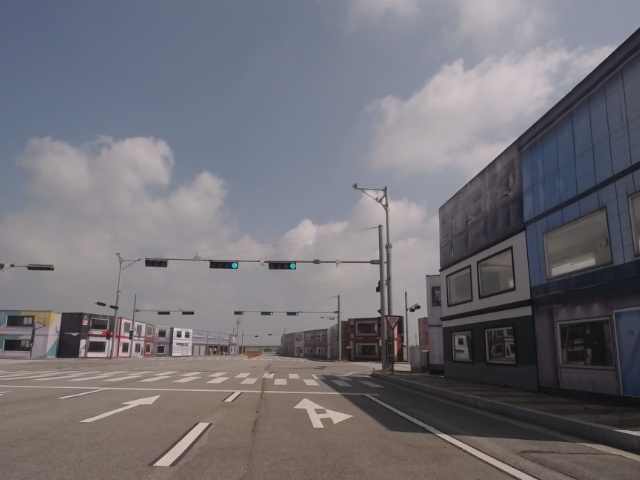straight_green_4: (268, 259, 298, 271), (209, 261, 239, 269)
